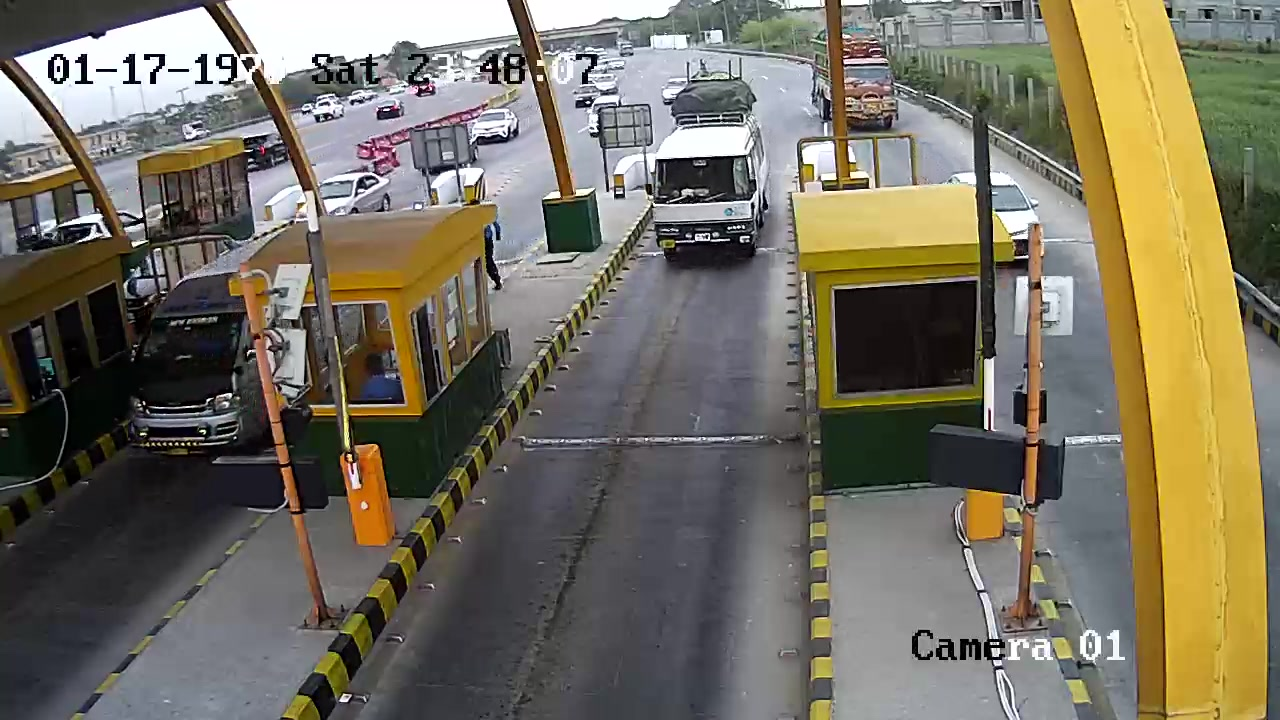F3: (647, 57, 773, 271)
